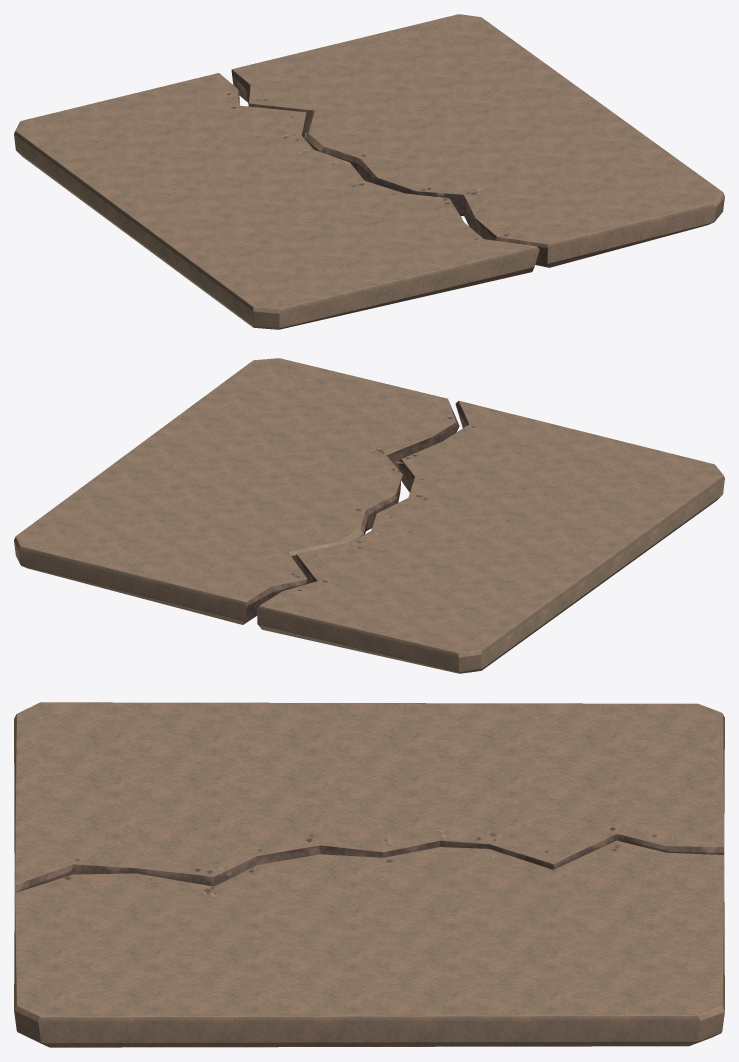
Rendered from CrackedSlabStep.glb.
3 renders of one model, top to bottom at view 1: azimuth 30°, elevation 25°; view 2: azimuth 150°, elevation 25°; view 3: azimuth 270°, elevation 25°, orthographic. The views are drawn at different scales.
Visible parts, largest first — view 1: Sintered_regolith_warm_panel.004, Sintered_regolith_warm_panel.005; view 2: Sintered_regolith_warm_panel.004, Sintered_regolith_warm_panel.005; view 3: Sintered_regolith_warm_panel.005, Sintered_regolith_warm_panel.004.
Part boxes in pixels (x1,y1,x2,y2): Sintered_regolith_warm_panel.004: (14,73,539,329); Sintered_regolith_warm_panel.005: (231,14,724,267); Sintered_regolith_warm_panel.004: (257,400,724,673); Sintered_regolith_warm_panel.005: (14,358,459,624); Sintered_regolith_warm_panel.005: (14,840,724,1047); Sintered_regolith_warm_panel.004: (14,702,724,893).
Size of the model in its own units: 2.69 by 0.1361 by 2.56.
3 materials, 3 textured.
